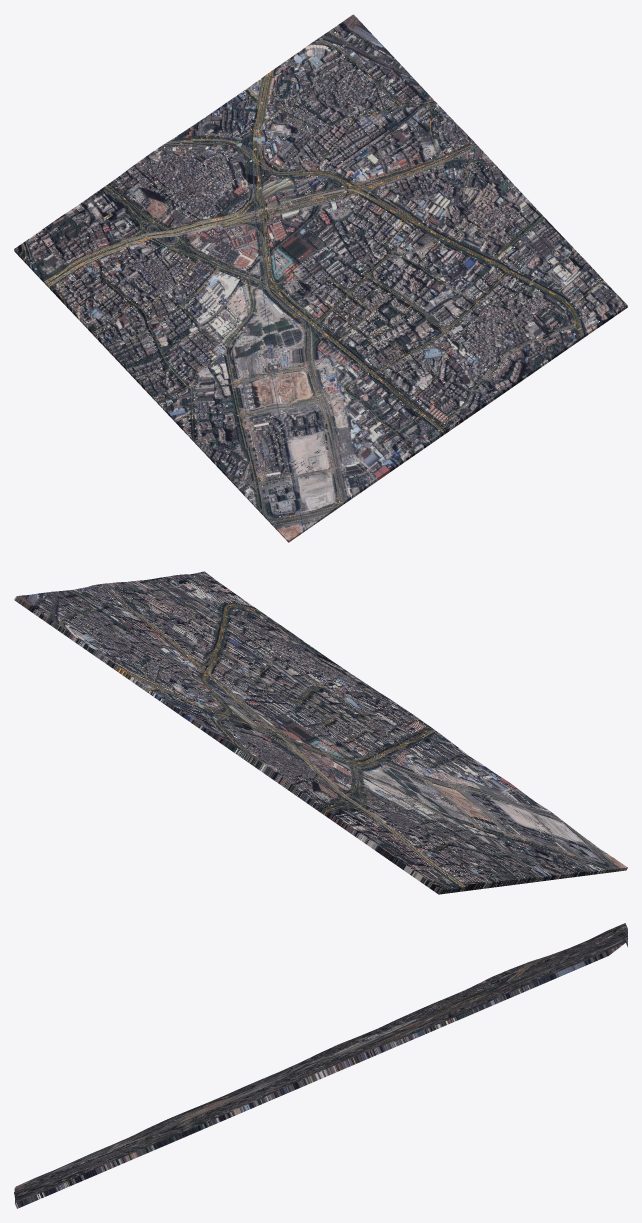
The picture shows the model from 3 angles, top to bottom: view 1: azimuth 30°, elevation 25°; view 2: azimuth 150°, elevation 25°; view 3: azimuth 270°, elevation 25°; orthographic projection. The views are drawn at different scales.
Visible parts, largest first — view 1: 2_0_2; view 2: 2_0_2; view 3: 2_0_2.
Boxes of the visible parts, box(x1,y1,x2,y2) form: 2_0_2: box(14, 14, 627, 542); 2_0_2: box(14, 571, 627, 894); 2_0_2: box(14, 923, 627, 1208).
Bounding box in the file's own units: 2454 × 1784 × 2249.
Materials: 1 (1 with a texture image).
